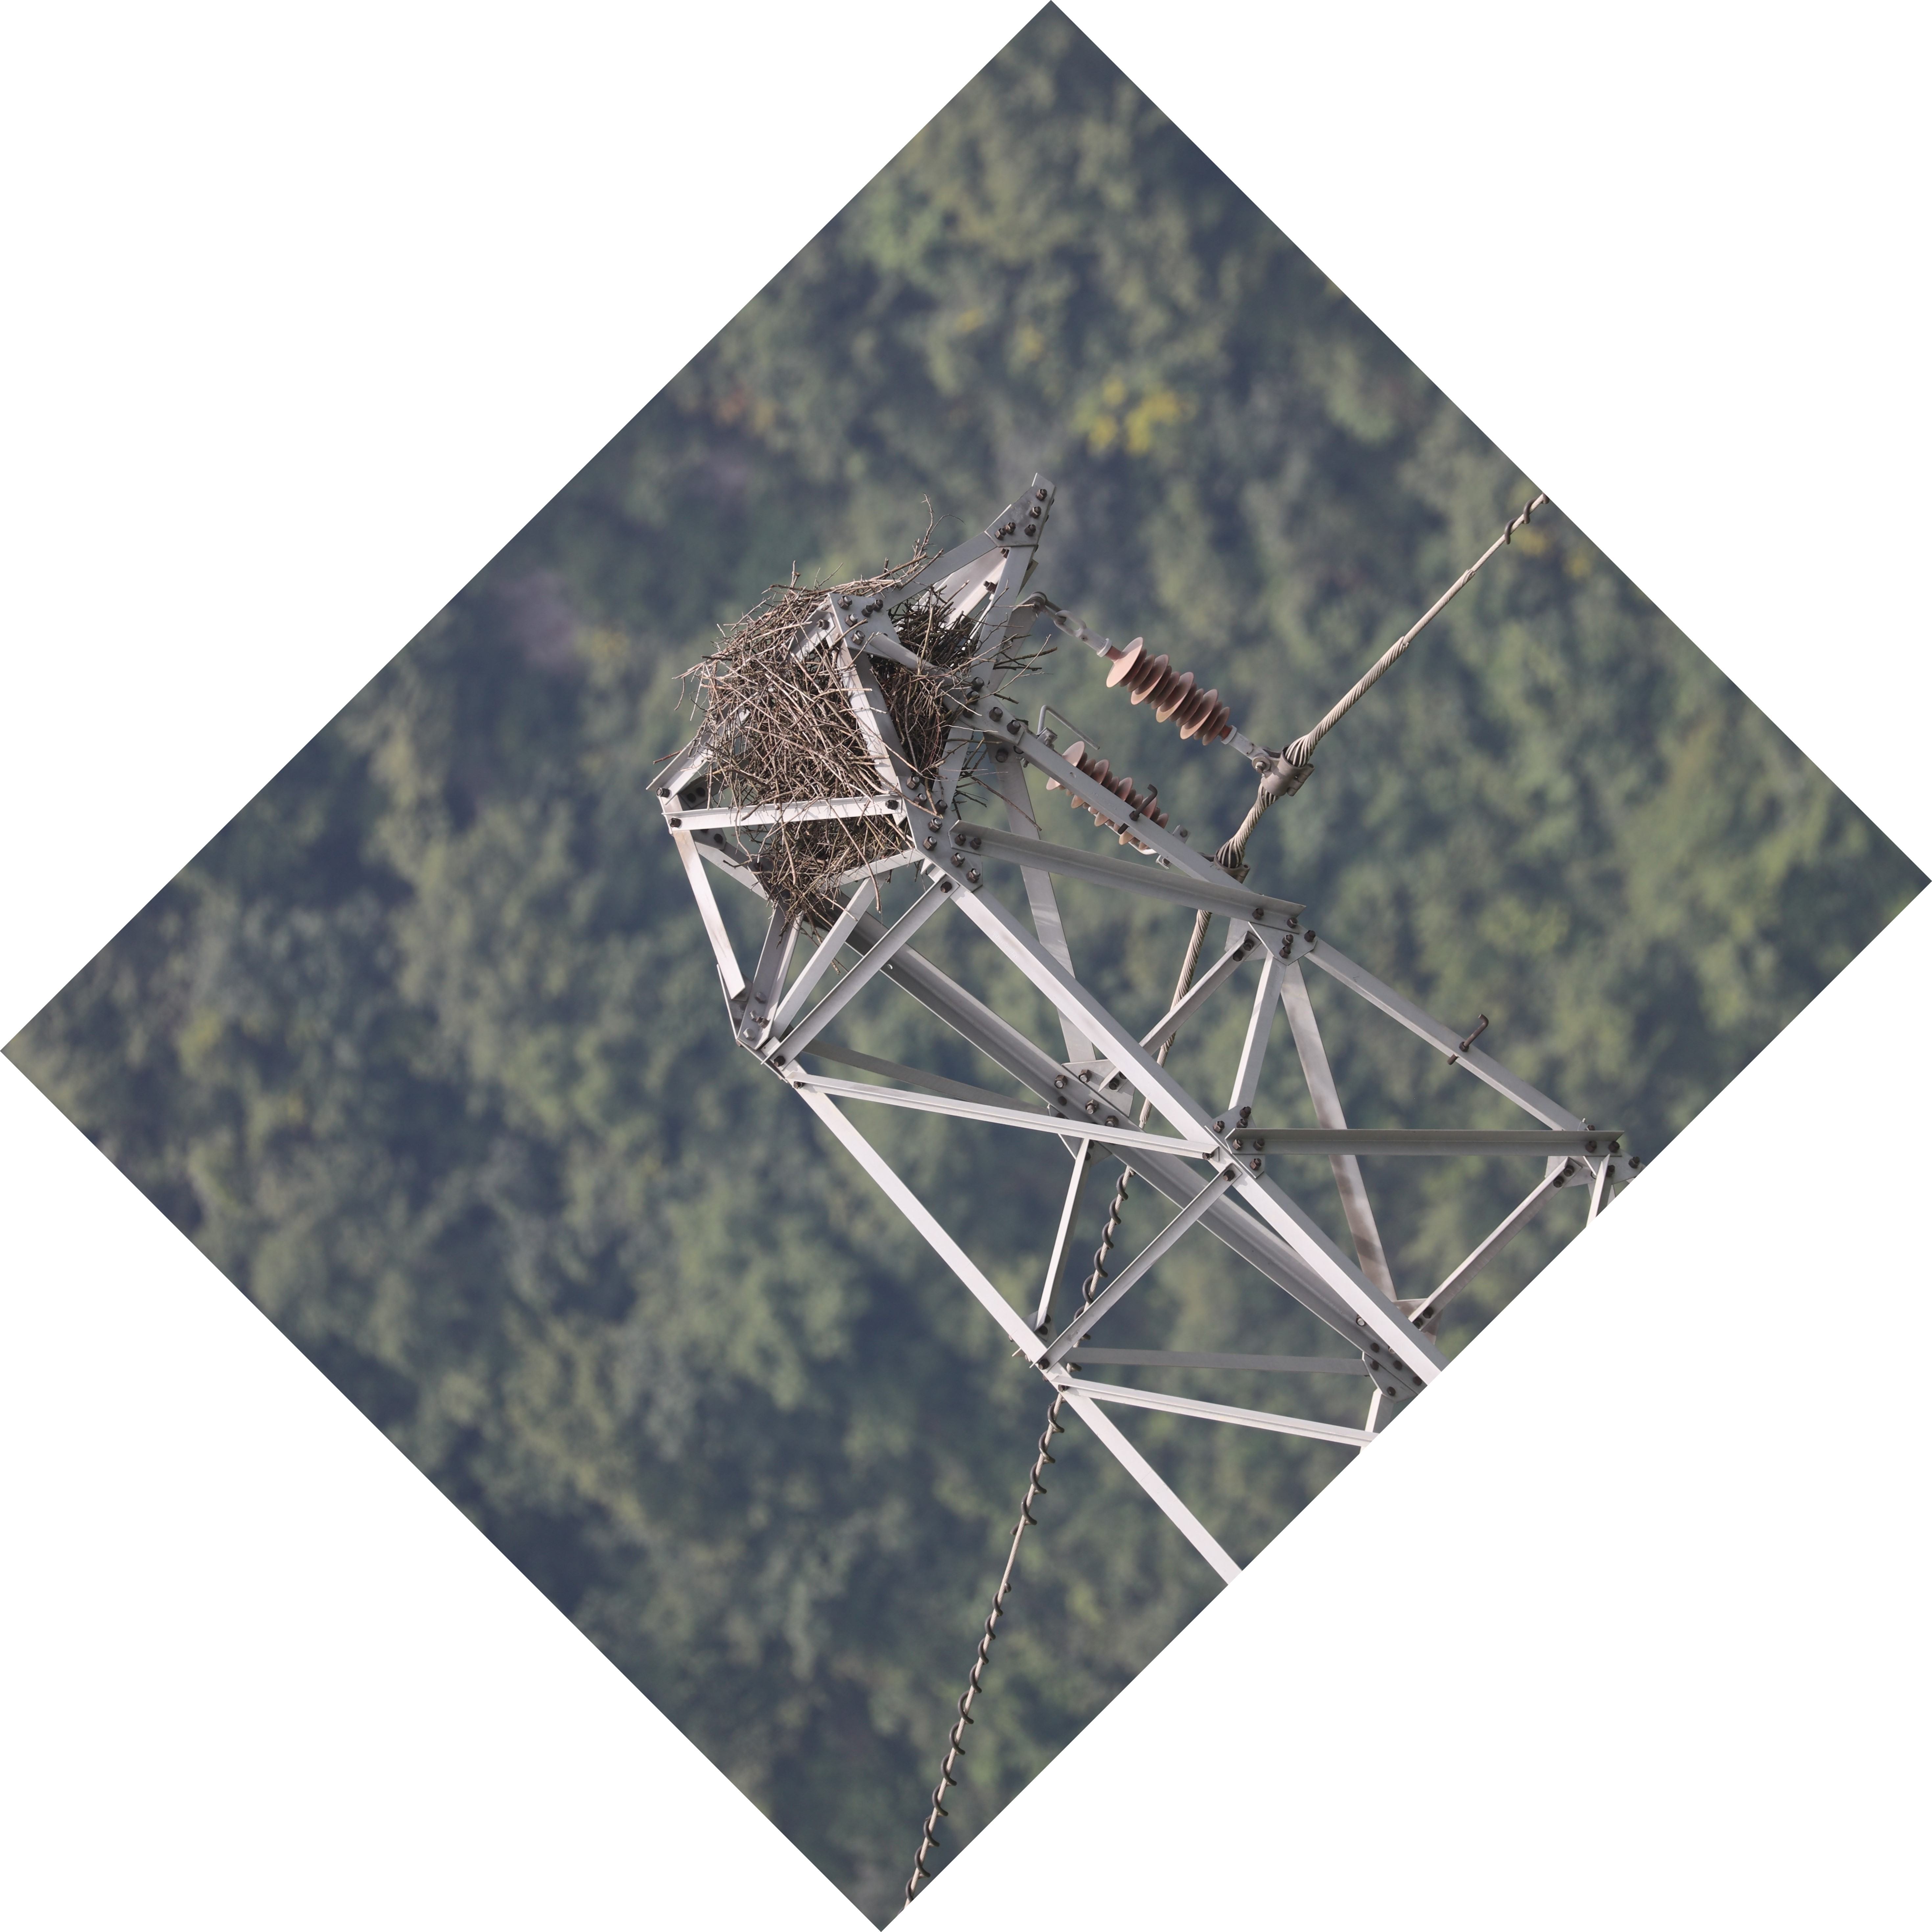niaowo: (649, 540, 987, 924)
